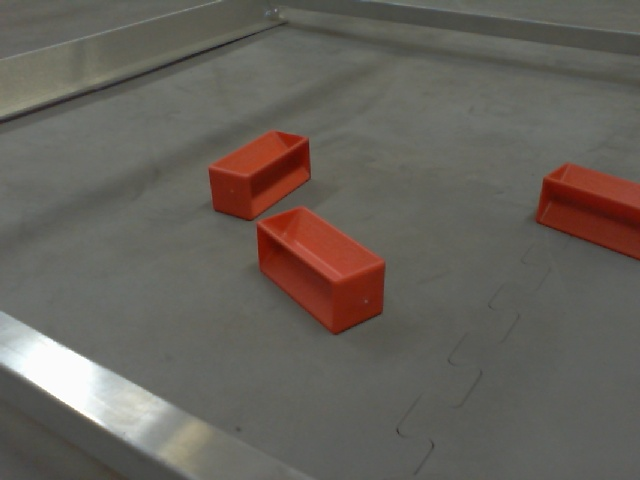RedSample: (258, 209, 389, 328), (206, 127, 316, 221), (535, 161, 640, 256)
